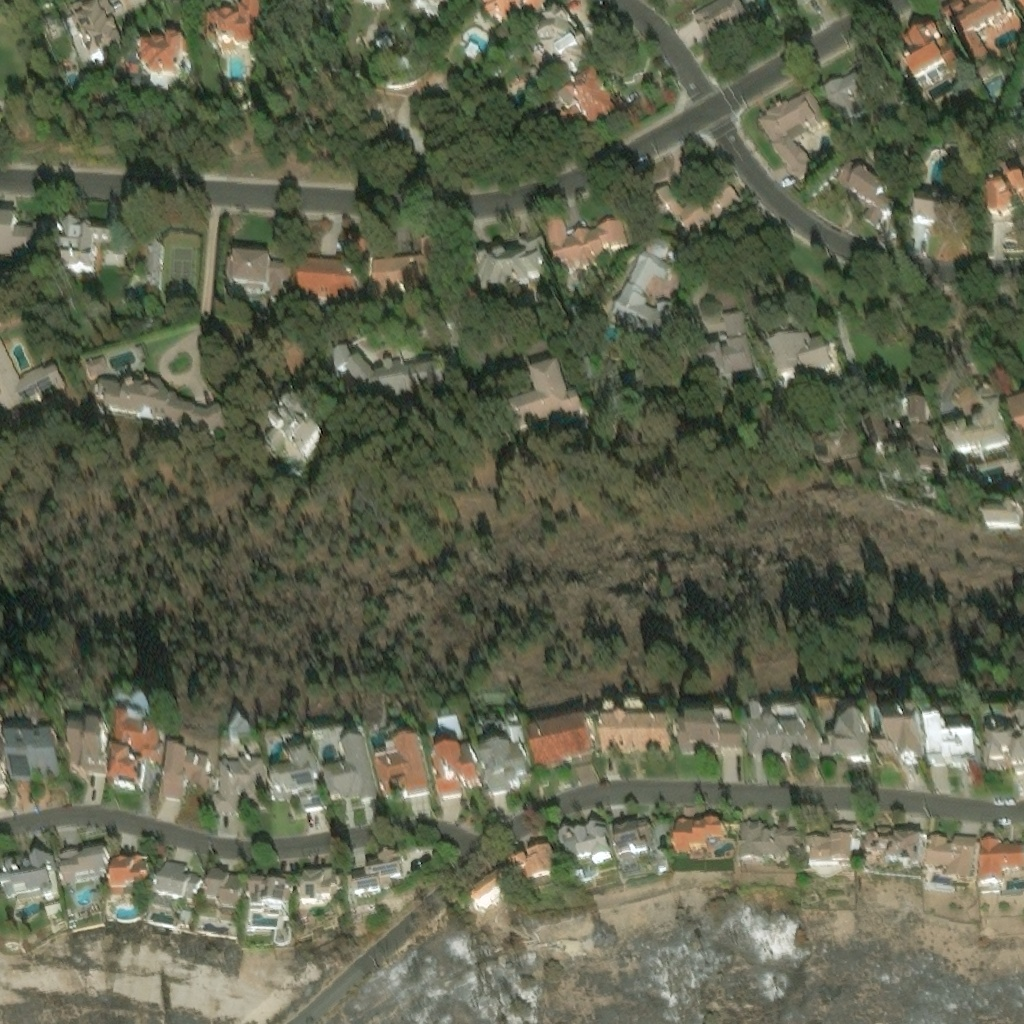0 no-damage: (0, 208, 123, 276), (96, 377, 231, 433), (757, 87, 829, 178), (335, 352, 448, 405), (513, 363, 595, 436), (939, 0, 1023, 69), (612, 247, 675, 334), (463, 224, 546, 290), (0, 341, 69, 420), (66, 0, 142, 62), (554, 68, 624, 132), (544, 215, 629, 267), (833, 161, 896, 229), (101, 712, 163, 781), (263, 405, 327, 471), (899, 18, 962, 85), (694, 312, 756, 379), (599, 704, 674, 754), (943, 403, 1011, 457), (318, 735, 376, 798), (371, 733, 429, 795), (527, 714, 596, 765), (746, 709, 817, 756), (224, 252, 288, 302), (534, 3, 590, 59), (347, 843, 405, 897), (0, 844, 60, 896), (767, 330, 833, 376), (150, 854, 205, 907), (158, 742, 211, 796), (739, 818, 803, 862), (371, 251, 436, 294), (863, 823, 926, 867), (556, 818, 616, 864), (884, 402, 938, 452), (205, 0, 258, 50), (3, 728, 58, 776), (467, 865, 520, 914), (292, 257, 358, 296), (807, 817, 856, 869), (925, 831, 977, 880), (822, 65, 868, 120), (267, 743, 319, 791), (56, 839, 111, 884), (821, 714, 872, 762), (433, 740, 480, 791), (478, 738, 526, 787), (136, 31, 186, 78), (692, 0, 750, 40), (979, 836, 1023, 887), (508, 841, 559, 883), (673, 814, 726, 854), (215, 755, 266, 796), (928, 724, 979, 763), (680, 721, 743, 752), (986, 719, 1023, 771), (248, 866, 293, 907), (615, 816, 660, 857), (297, 862, 340, 904), (202, 868, 246, 909), (474, 0, 544, 25), (66, 720, 104, 766), (882, 719, 925, 759), (108, 850, 151, 885), (912, 195, 953, 229), (989, 179, 1023, 217), (983, 504, 1022, 524), (915, 452, 948, 471), (1009, 402, 1023, 445), (410, 0, 444, 15), (297, 788, 318, 801), (180, 911, 192, 926), (324, 908, 332, 920)
